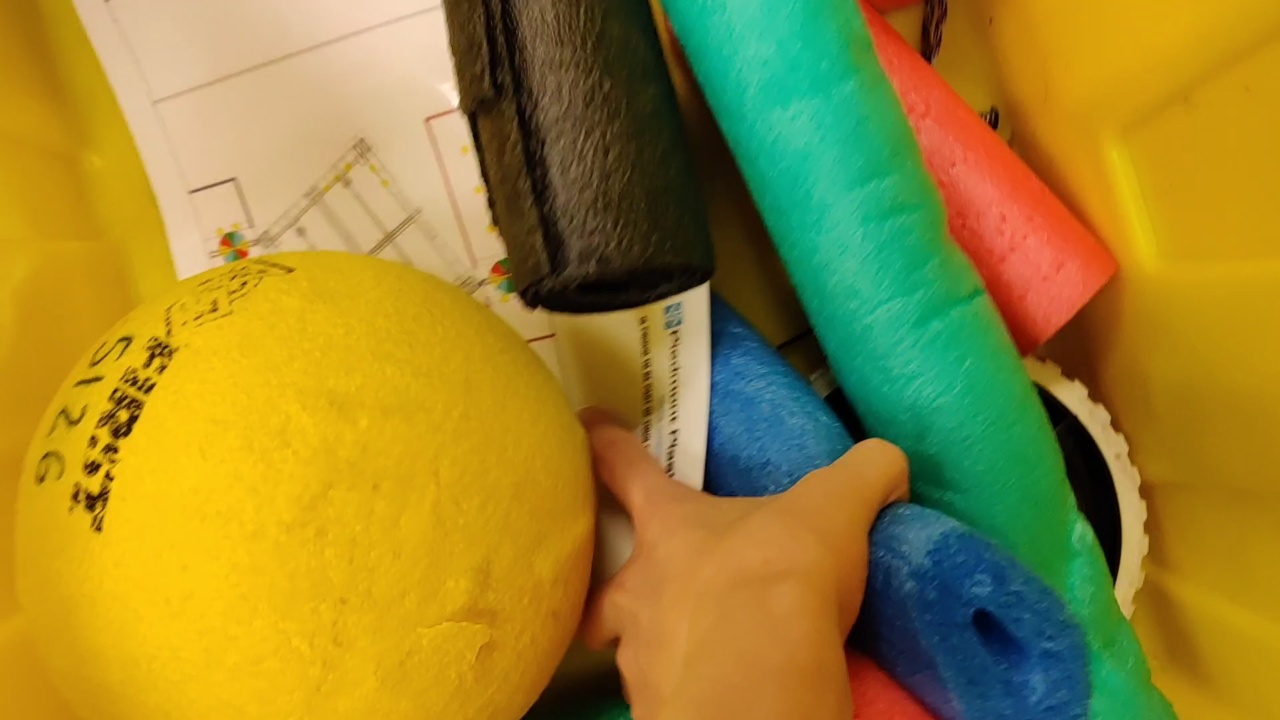Ball: (18, 252, 604, 720)
